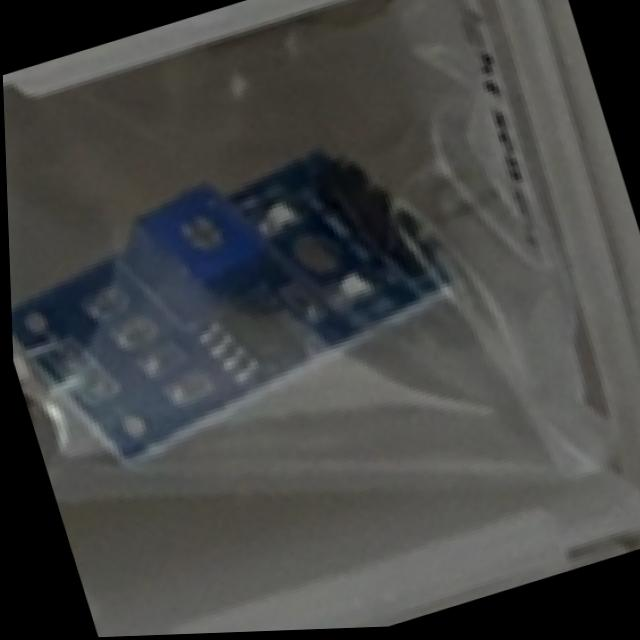Light Sensor: (5, 104, 495, 497)
